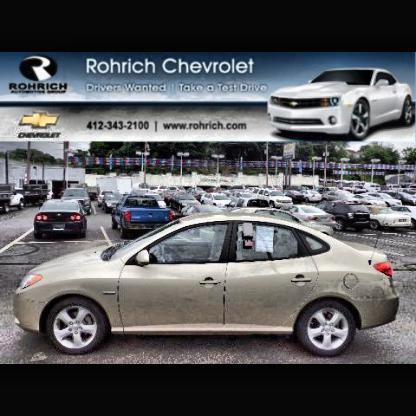Hyundai Elantra Sedan 2007: (14, 216, 402, 356)
